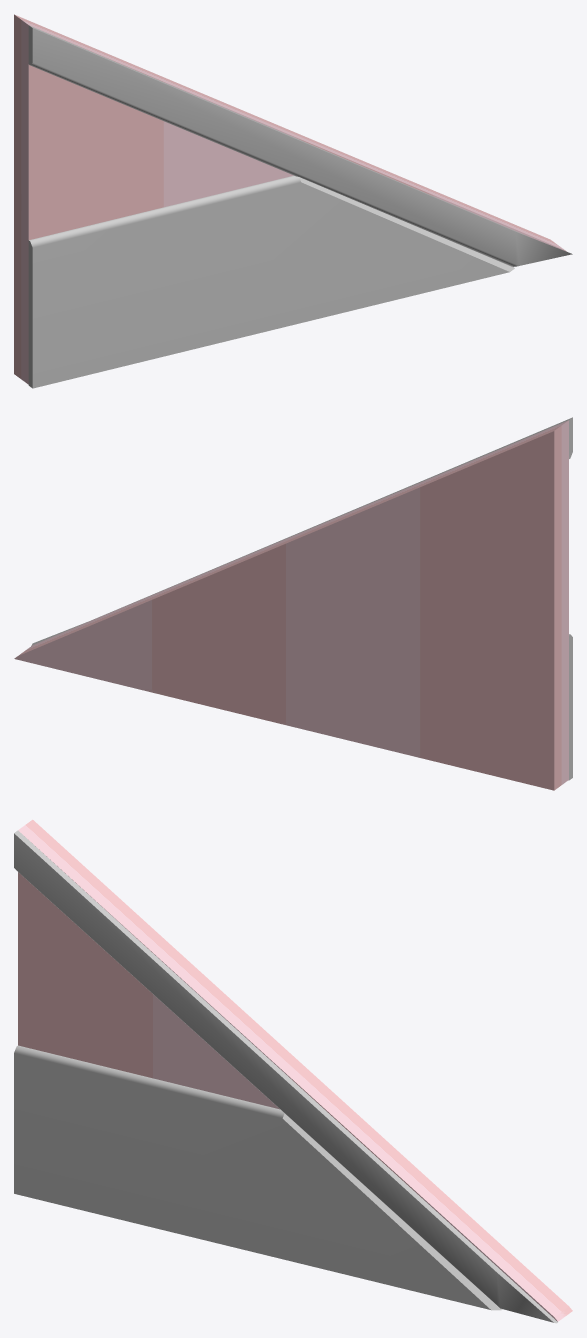
File: Wall_Interior_Angled_1.fbx
3 views of the same model, one above another, from view 1: azimuth 30°, elevation 25°; view 2: azimuth 150°, elevation 25°; view 3: azimuth 330°, elevation 25° (orthographic).
Parts seen in each view (by area): view 1: Wall_Interior_Angled; view 2: Wall_Interior_Angled; view 3: Wall_Interior_Angled.
Boxes of the visible parts, left/top/right/bottom form: Wall_Interior_Angled: left=14, top=14, right=572, bottom=388; Wall_Interior_Angled: left=14, top=417, right=572, bottom=790; Wall_Interior_Angled: left=14, top=819, right=572, bottom=1323.
Size of the model in its own units: 1 by 0.6377 by 0.0602.
